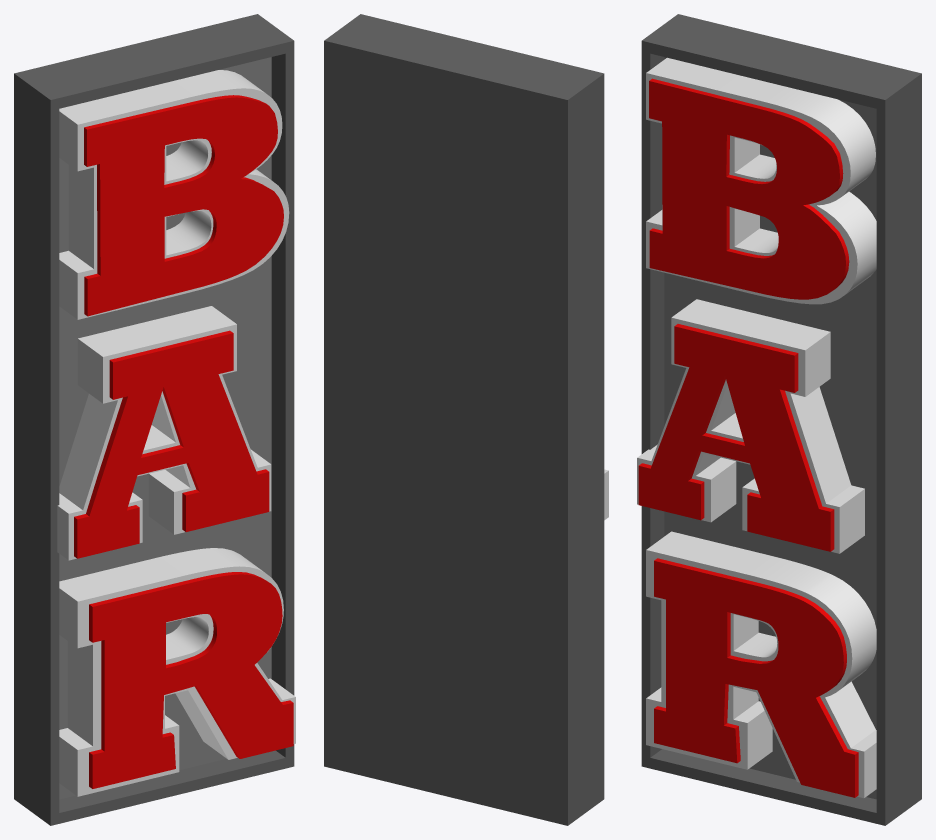
Rendered from SM_sign_bar.fbx.
The picture shows the model from 3 angles, left to right: view 1: azimuth 30°, elevation 25°; view 2: azimuth 150°, elevation 25°; view 3: azimuth 330°, elevation 25°; orthographic projection.
Visible parts, largest first — view 1: pCube3, typeMesh1, typeMesh3, typeMesh5, typeMesh4; view 2: pCube3; view 3: pCube3, typeMesh1, typeMesh3, typeMesh5, typeMesh4.
Part boxes in pixels (left/top/right/bottom): pCube3: left=14, top=14, right=294, bottom=825; typeMesh1: left=57, top=70, right=295, bottom=796; typeMesh3: left=84, top=95, right=283, bottom=316; typeMesh5: left=89, top=572, right=293, bottom=788; typeMesh4: left=74, top=330, right=269, bottom=558; pCube3: left=324, top=14, right=604, bottom=825; pCube3: left=641, top=14, right=921, bottom=825; typeMesh1: left=637, top=57, right=876, bottom=798; typeMesh3: left=649, top=78, right=849, bottom=299; typeMesh5: left=654, top=558, right=858, bottom=797; typeMesh4: left=638, top=324, right=834, bottom=551.
Bounding box in the file's own units: 7.52 × 21.4 × 2.75.
